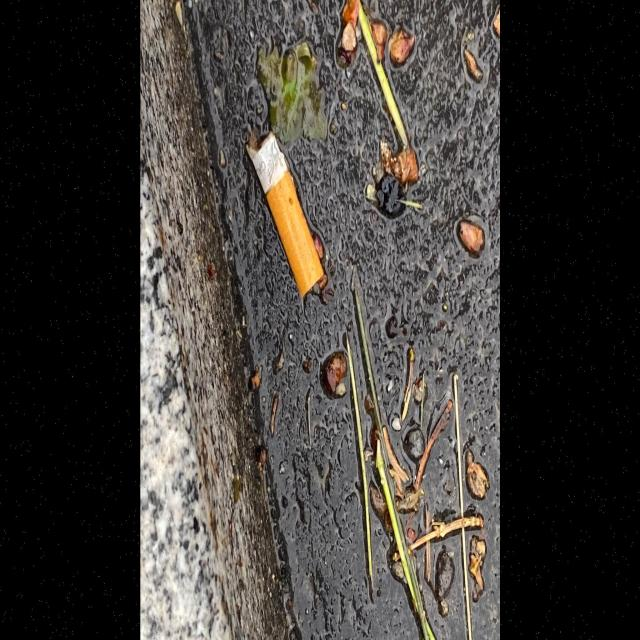other waste: (243, 127, 324, 299)
